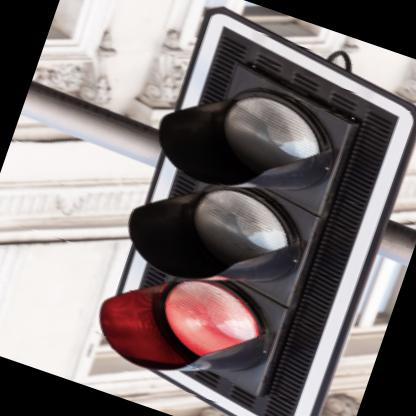trafficlight: (78, 3, 415, 415)
